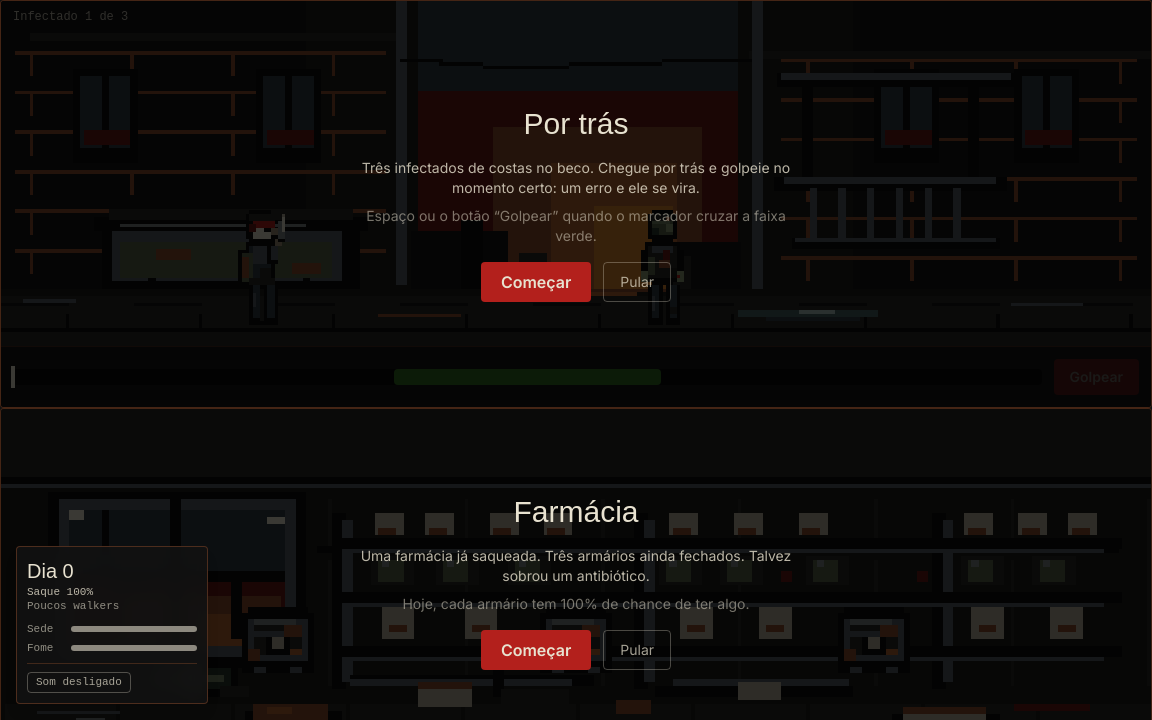
Scenario: LootGame › the antibiotic found cures the infection from the HUD
Click the button "Começar" below "Espaço ou o botão “Golpear”" at (536, 282), box [481,262,591,302]
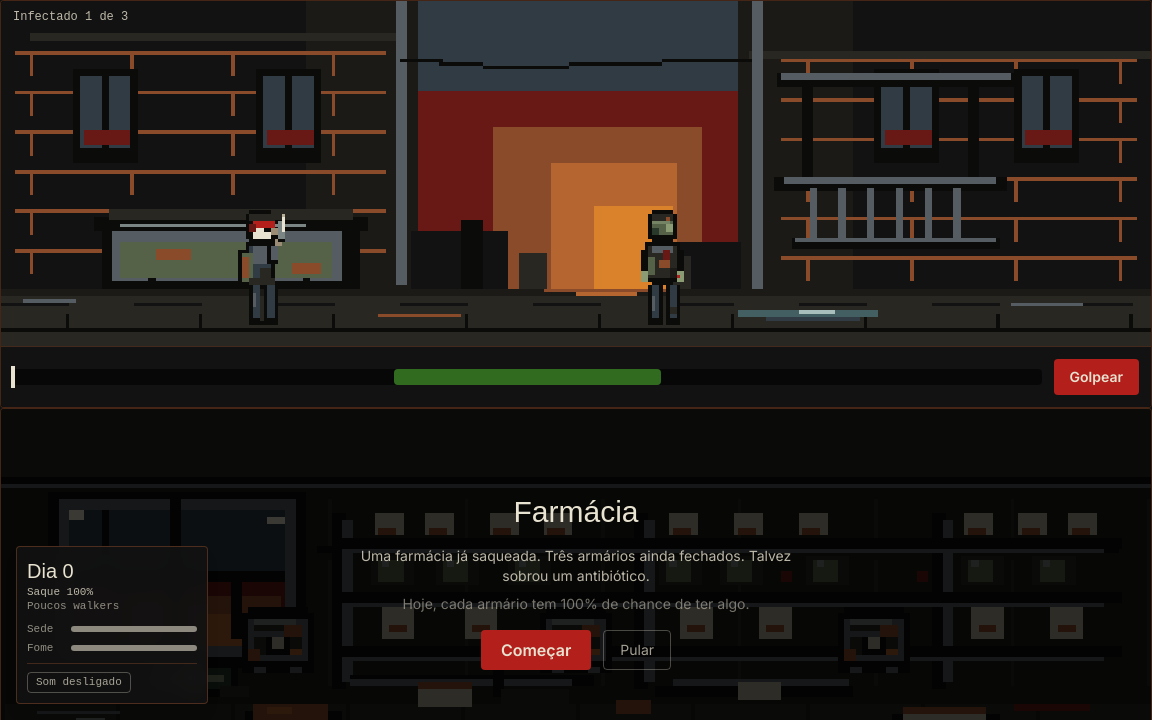
Click the button "Golpear" at (1096, 377), box [1054,359,1139,395]
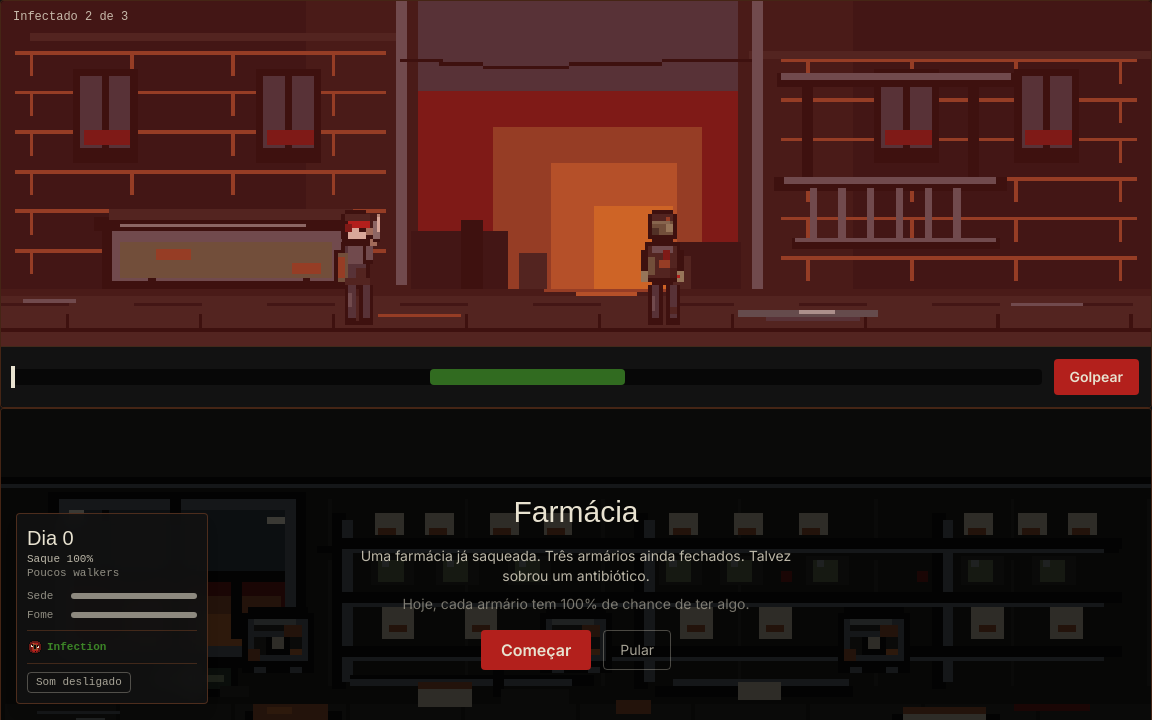
Result: the message named "sobrevivente" shows "Infection" at [47,641,106,653]
Click the button "Começar" at (536, 650), box [481,630,591,670]
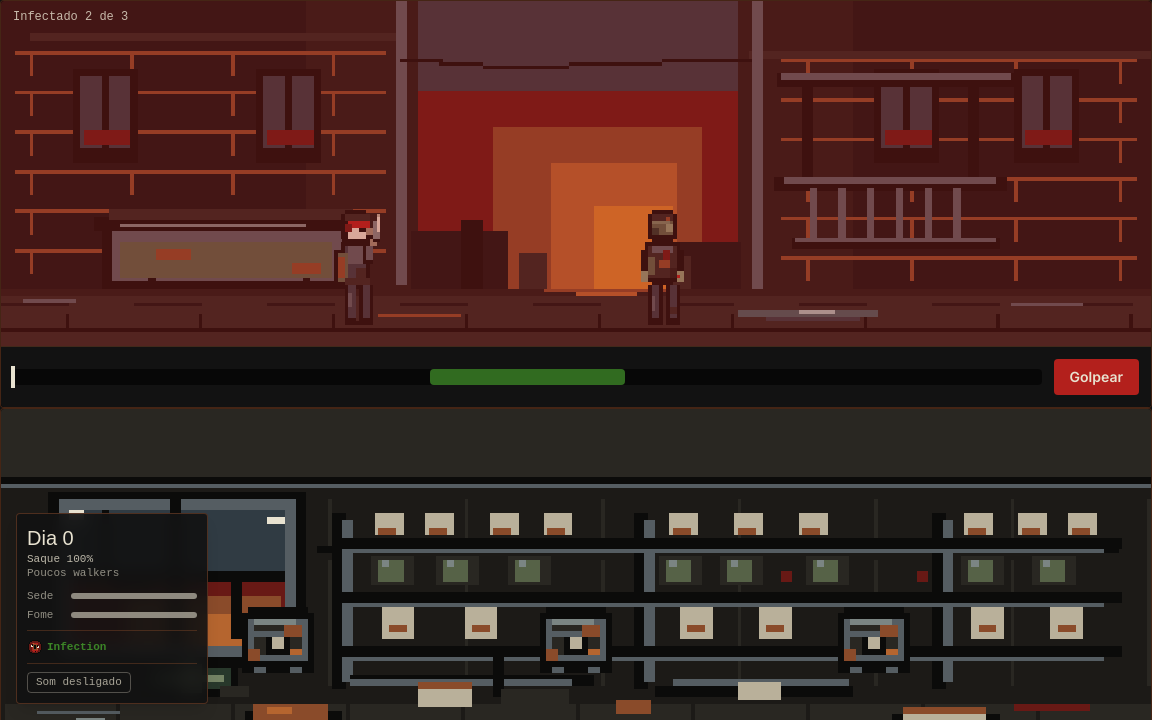
Click the button named "Abrir armário 1" at (278, 637), box [162,589,394,685]
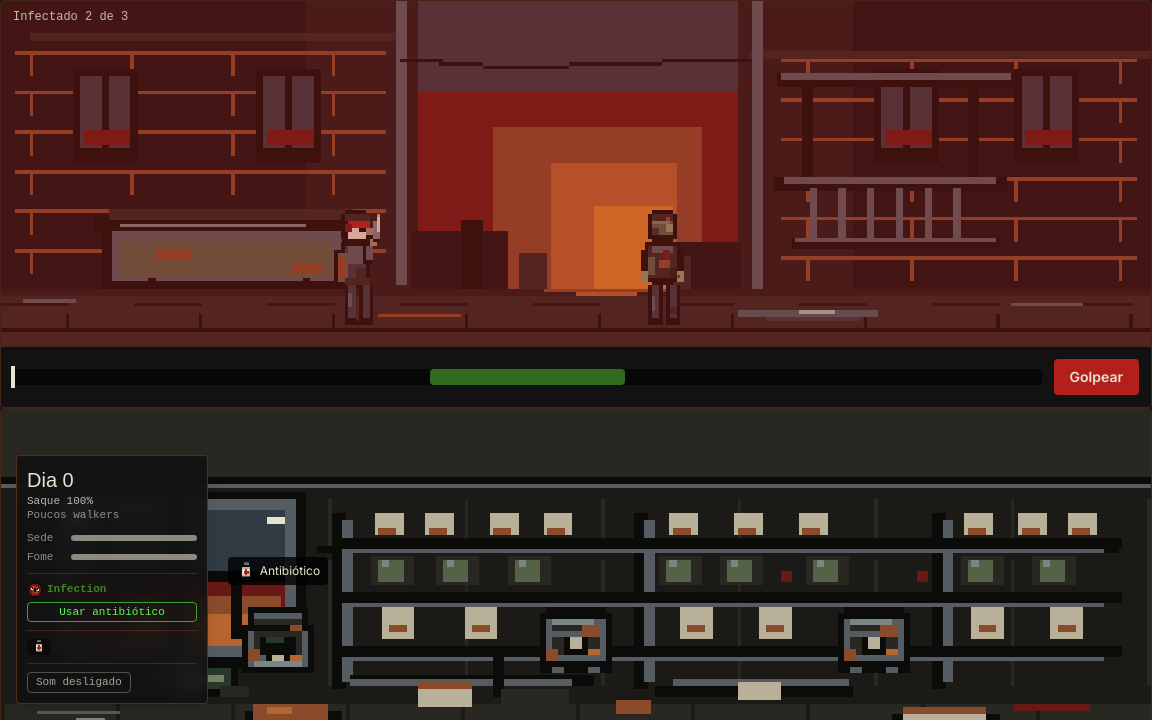
Click the button "Usar antibiótico" at (112, 612), box [27,602,197,622]
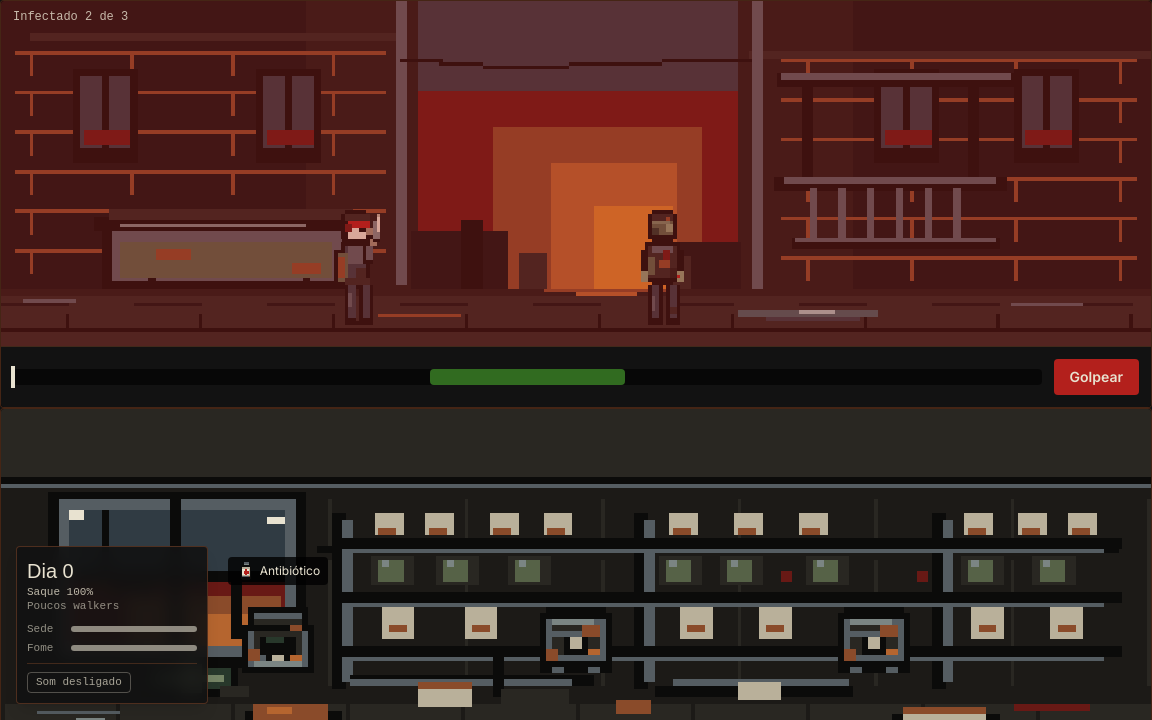
Result: the message named "sobrevivente" no longer shows "Infection" at [16,546,208,704]
